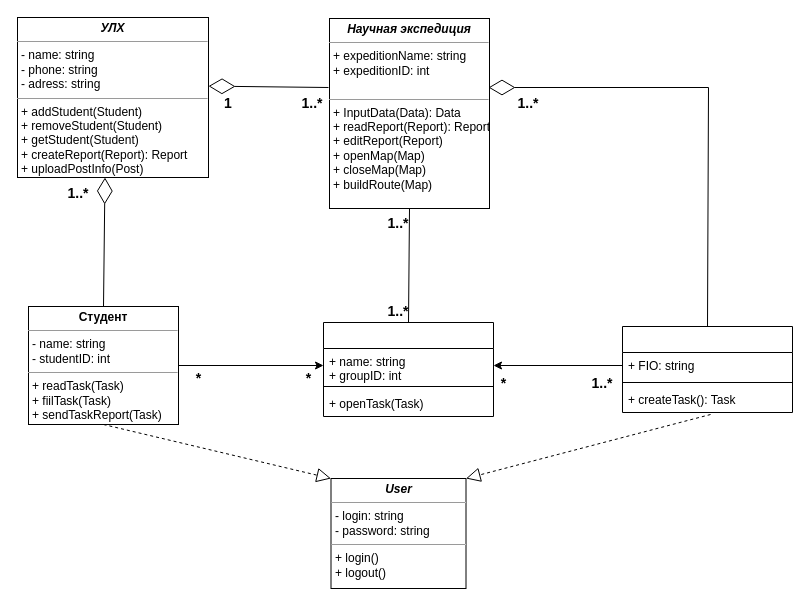
Image size: 810x606. Some labels were removed from this diagram. The box of each missing label's shape, as (x1, y1, x2, y2) in pixels:
Группа: (322, 322, 494, 416)
Руководитель: (622, 326, 792, 412)
